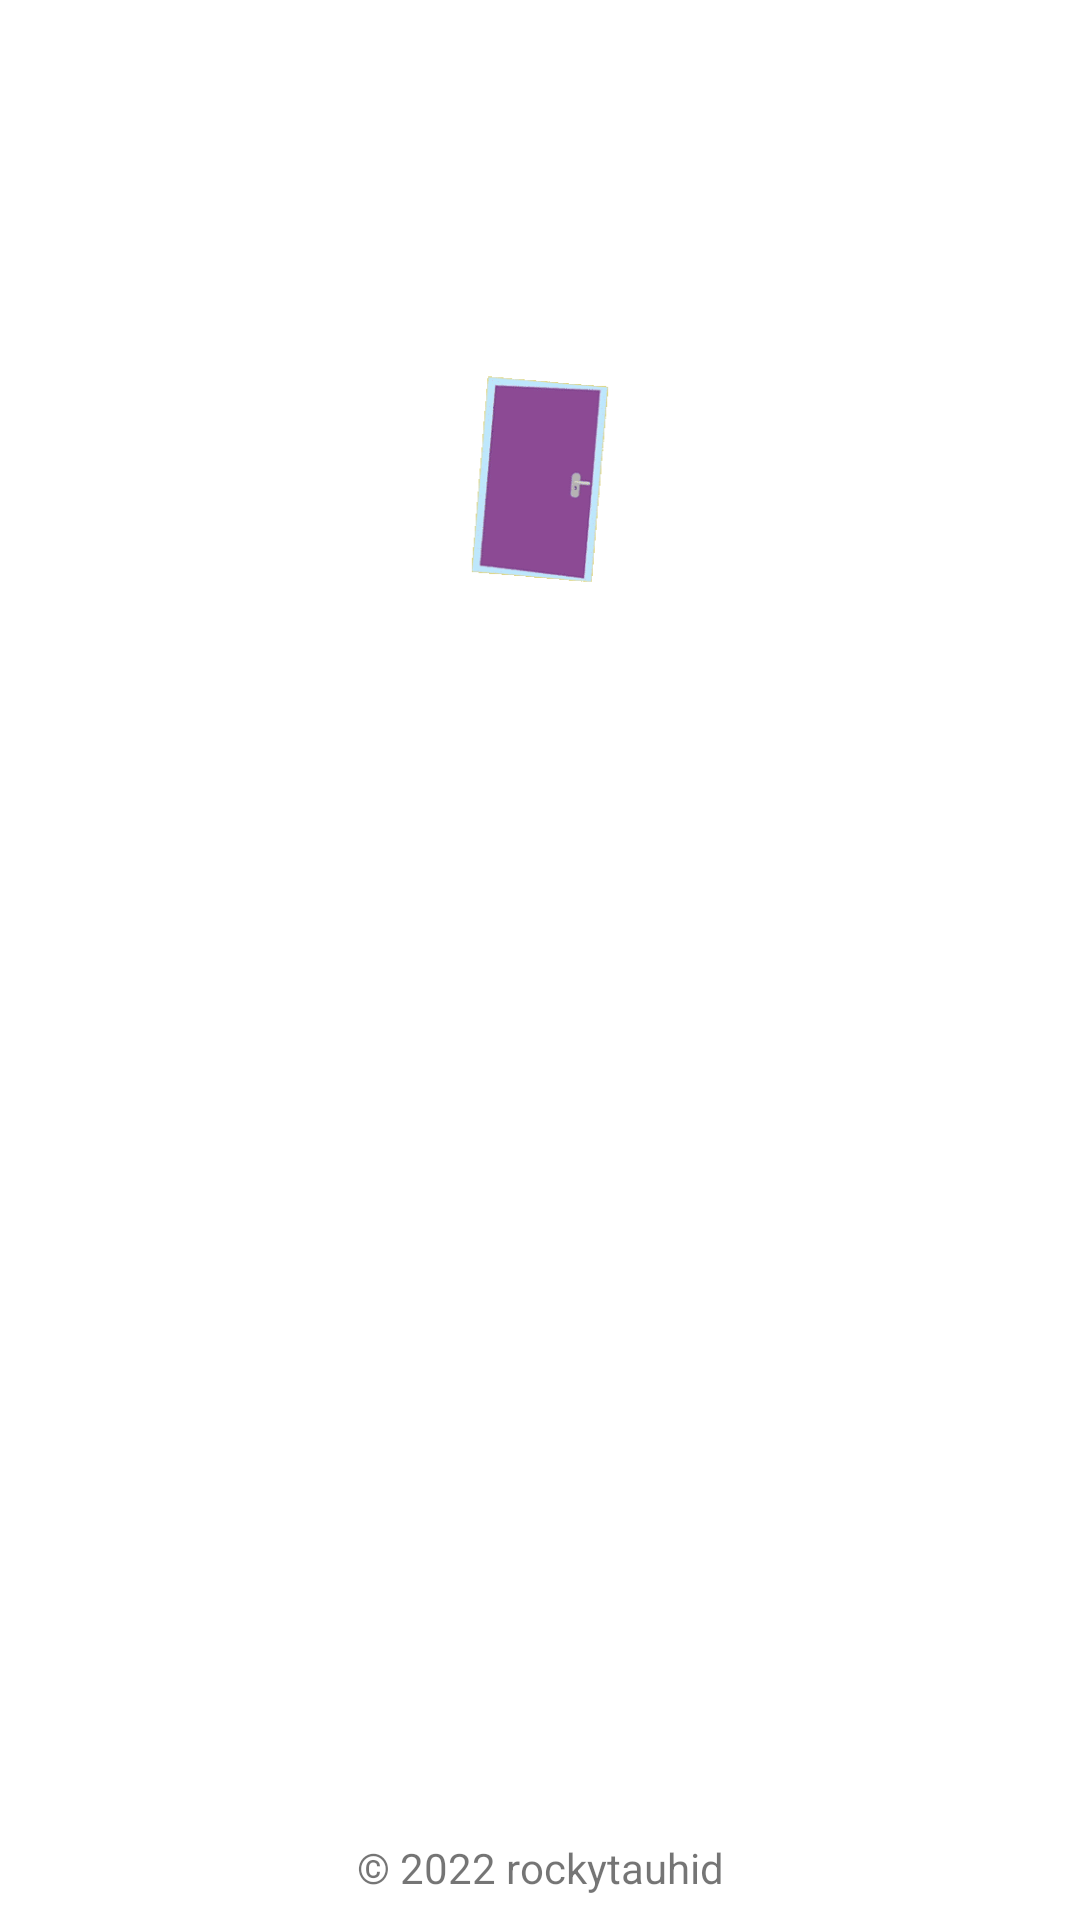

Named icons in this screenshot (1080px x 1920px) and their centers, point (x, y):
login image: point (540, 479)
